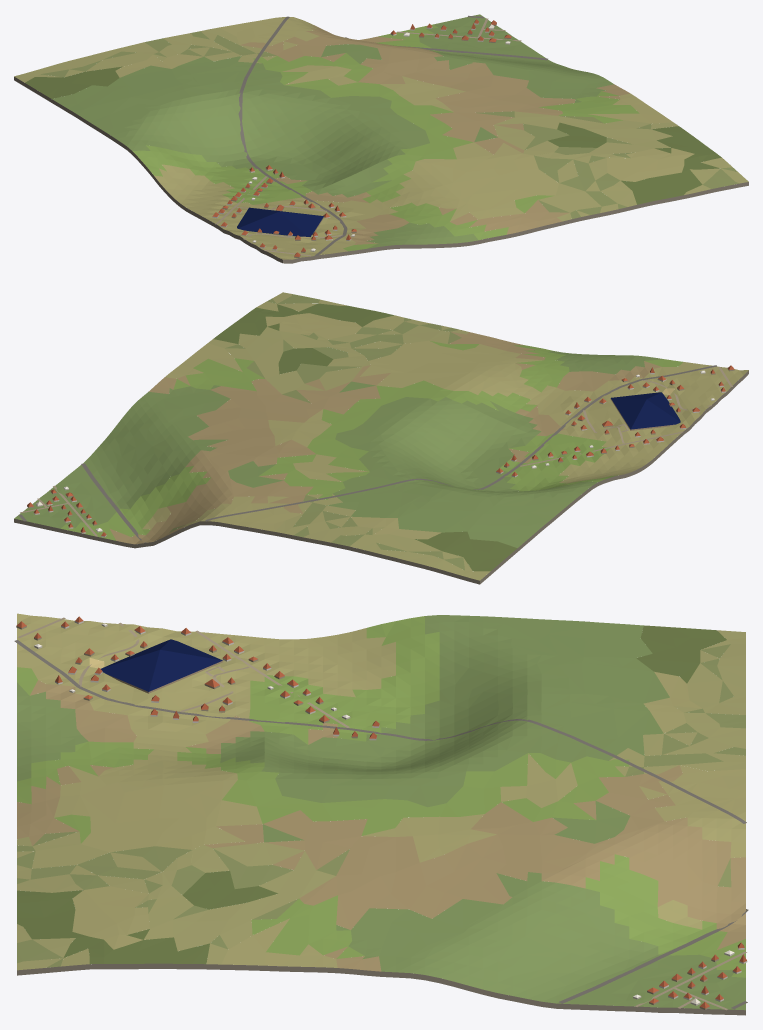
File: parca_+10_+0-uzak.glb
The picture shows the model from 3 angles, top to bottom: view 1: azimuth 30°, elevation 25°; view 2: azimuth 150°, elevation 25°; view 3: azimuth 270°, elevation 25°; orthographic projection. The views are drawn at different scales.
Parts seen in each view (by area): view 1: parca_+10_+0_arazi_uzak, parca_+10_+0_yapilar_uzak, parca_+10_+0_yollar_uzak; view 2: parca_+10_+0_arazi_uzak, parca_+10_+0_yapilar_uzak, parca_+10_+0_yollar_uzak; view 3: parca_+10_+0_arazi_uzak, parca_+10_+0_yapilar_uzak, parca_+10_+0_yollar_uzak.
Boxes of the visible parts, bbox=[...] form: parca_+10_+0_arazi_uzak: bbox=[14, 14, 748, 263]; parca_+10_+0_yapilar_uzak: bbox=[212, 19, 511, 258]; parca_+10_+0_yollar_uzak: bbox=[215, 15, 547, 256]; parca_+10_+0_arazi_uzak: bbox=[14, 292, 748, 584]; parca_+10_+0_yapilar_uzak: bbox=[27, 365, 734, 537]; parca_+10_+0_yollar_uzak: bbox=[18, 365, 732, 542]; parca_+10_+0_arazi_uzak: bbox=[17, 613, 745, 1015]; parca_+10_+0_yapilar_uzak: bbox=[16, 616, 747, 1009]; parca_+10_+0_yollar_uzak: bbox=[14, 617, 748, 1010].
Size of the model in its own units: 1008 by 147 by 1008.
